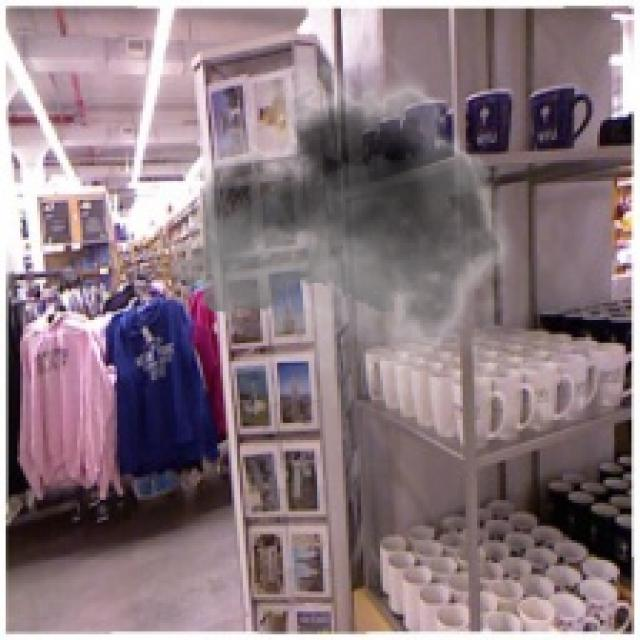smoke: (166, 43, 531, 411)
